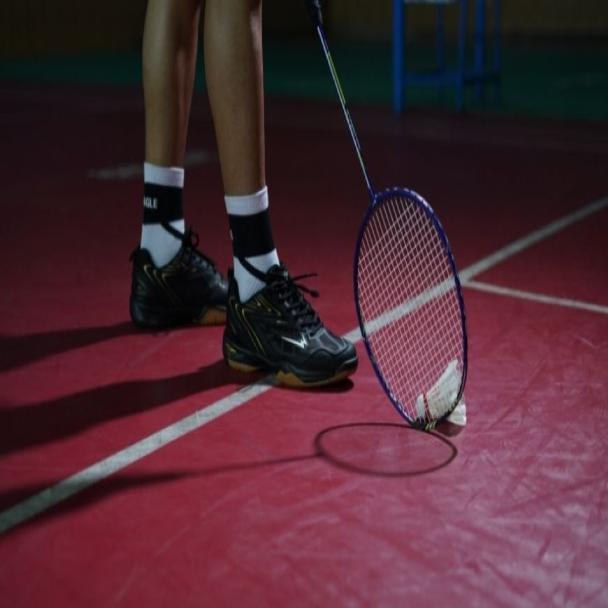Sepatu: (222, 266, 356, 391), (130, 242, 231, 332)
